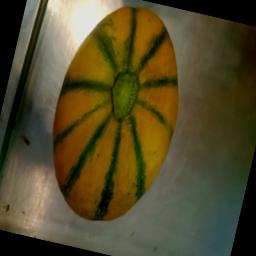Melon Ripe: (26, 0, 204, 237)
